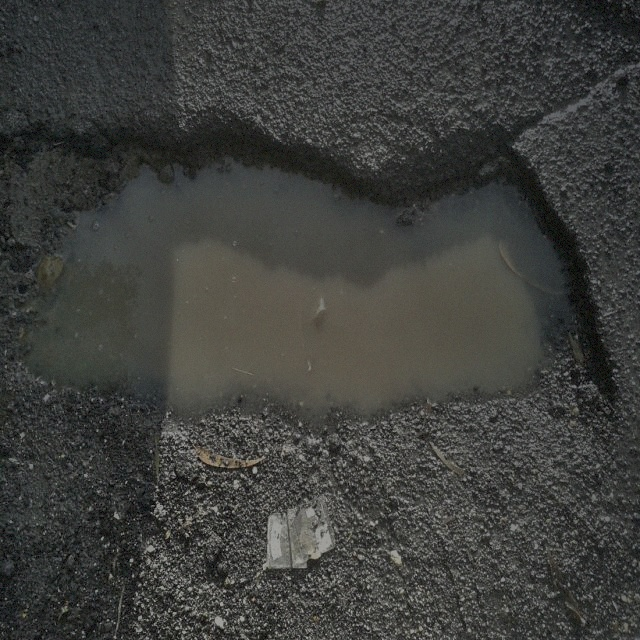pothole: (22, 106, 615, 466)
